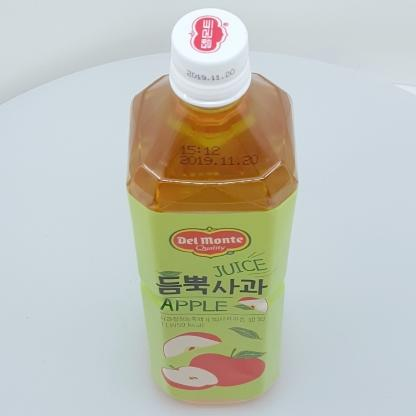----------1L: (127, 8, 298, 404)
